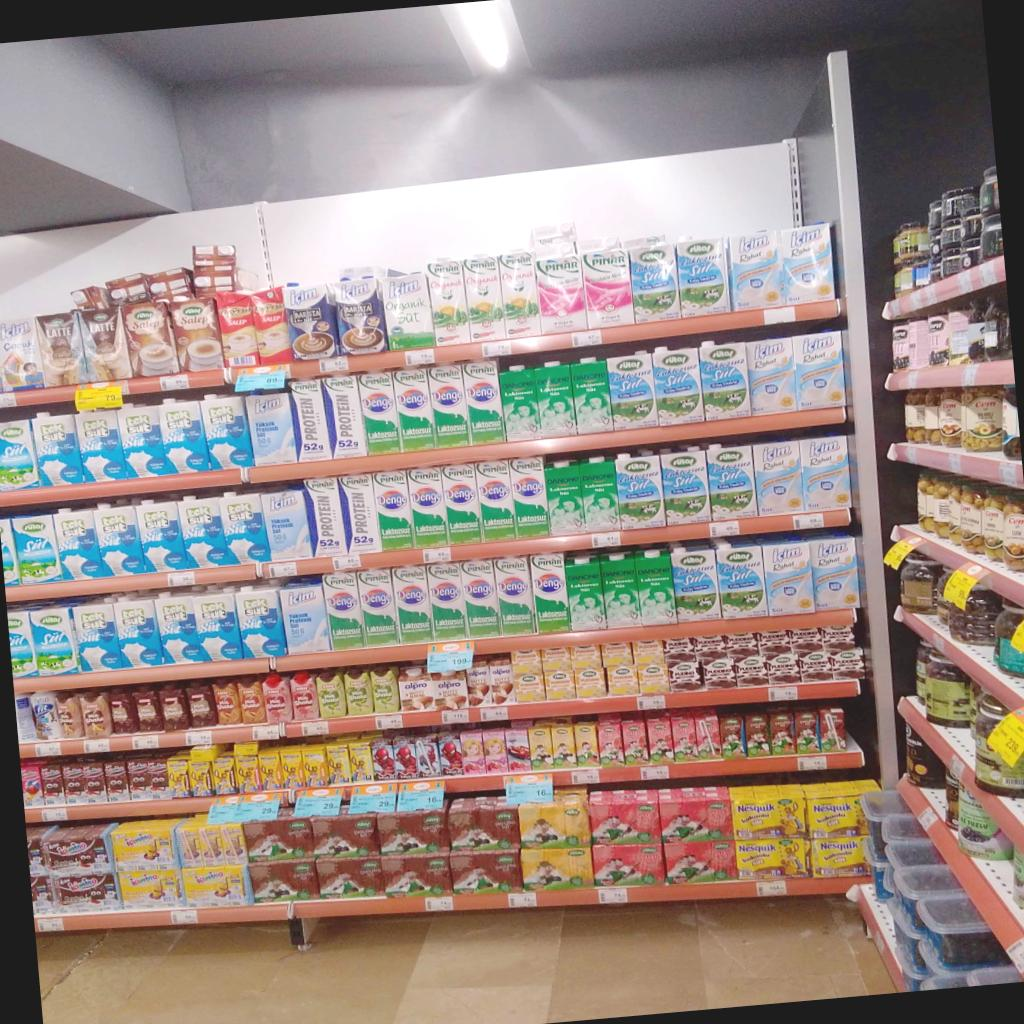price_tag: (208, 791, 286, 824), (505, 772, 554, 805), (349, 783, 397, 814), (234, 365, 289, 392), (398, 780, 445, 811), (428, 641, 474, 672), (295, 788, 343, 816), (75, 382, 123, 410), (208, 795, 244, 823), (764, 307, 796, 325), (319, 355, 348, 374), (572, 329, 602, 347), (758, 879, 787, 897), (482, 340, 512, 357), (598, 887, 628, 904), (405, 349, 435, 366), (768, 686, 799, 702), (592, 531, 621, 548), (252, 724, 281, 741), (160, 375, 189, 392), (709, 521, 739, 537), (570, 768, 600, 784), (797, 755, 826, 771), (508, 892, 537, 908), (637, 694, 666, 710), (480, 706, 509, 722), (794, 514, 823, 530), (425, 896, 453, 912), (333, 555, 361, 571), (375, 714, 403, 730), (423, 547, 451, 563), (301, 721, 329, 737), (132, 734, 160, 750), (185, 730, 213, 746), (441, 709, 470, 724), (268, 562, 297, 577), (168, 571, 195, 587), (641, 765, 669, 780), (171, 909, 197, 925), (83, 739, 111, 753), (35, 742, 61, 757), (41, 807, 67, 822), (38, 917, 64, 932), (0, 394, 17, 409)
product: (534, 244, 587, 333), (135, 499, 199, 571), (779, 223, 834, 305), (93, 503, 155, 575), (675, 237, 730, 317), (75, 410, 136, 482), (760, 535, 813, 616), (119, 301, 177, 375), (658, 787, 733, 844), (53, 508, 112, 580), (177, 495, 236, 567), (581, 247, 634, 327), (791, 330, 844, 410), (331, 277, 386, 354), (729, 784, 806, 839), (118, 405, 176, 477), (728, 231, 781, 309), (35, 310, 90, 385), (157, 397, 212, 472), (652, 347, 704, 426), (382, 272, 435, 349), (698, 342, 750, 420), (588, 788, 659, 845), (447, 796, 519, 852), (168, 298, 223, 371), (745, 337, 797, 414), (629, 242, 679, 322), (41, 823, 115, 877), (518, 792, 589, 848), (799, 435, 851, 511), (807, 535, 859, 611), (607, 352, 658, 429), (614, 451, 663, 531), (154, 592, 209, 663), (715, 543, 767, 618), (283, 283, 334, 359), (706, 445, 757, 521), (77, 307, 130, 380), (201, 394, 253, 468), (110, 819, 182, 872), (376, 803, 449, 855), (426, 257, 469, 345), (357, 371, 402, 455), (752, 440, 803, 514), (245, 391, 296, 465), (660, 451, 711, 525), (278, 583, 331, 654), (112, 597, 165, 668), (671, 547, 721, 622), (32, 413, 84, 485), (243, 807, 312, 861), (304, 477, 351, 556), (498, 250, 540, 338), (219, 491, 270, 563), (392, 367, 436, 450), (322, 375, 366, 458), (337, 473, 382, 554), (176, 815, 246, 867), (235, 586, 286, 657), (192, 590, 243, 661), (28, 605, 79, 676), (462, 254, 504, 340), (11, 513, 62, 583), (462, 360, 505, 443), (427, 364, 470, 447), (261, 489, 311, 560), (72, 601, 122, 672), (290, 379, 333, 461), (804, 783, 866, 838), (322, 571, 365, 650), (371, 470, 413, 550), (475, 460, 516, 541), (493, 556, 535, 635), (450, 848, 522, 894), (459, 560, 502, 637), (407, 467, 448, 547), (441, 464, 482, 544), (530, 553, 571, 633), (391, 565, 433, 643), (216, 291, 259, 367), (309, 811, 378, 858), (592, 841, 664, 886), (634, 548, 676, 625), (380, 852, 451, 897), (570, 358, 612, 434), (578, 456, 620, 532), (510, 457, 549, 538), (426, 562, 467, 639), (499, 365, 541, 440), (564, 555, 606, 630), (663, 841, 738, 883), (181, 864, 252, 908), (533, 362, 575, 436), (734, 837, 808, 879), (521, 847, 593, 890), (358, 568, 398, 645), (0, 318, 43, 389), (248, 859, 318, 902), (545, 460, 585, 535), (600, 552, 640, 627), (251, 288, 290, 364), (316, 855, 384, 898), (0, 419, 40, 491), (52, 871, 122, 910), (117, 869, 183, 908), (809, 836, 867, 877), (0, 518, 33, 586), (7, 610, 38, 678), (29, 690, 62, 739), (398, 667, 435, 710), (26, 825, 56, 876), (262, 673, 293, 722), (80, 691, 113, 736), (158, 684, 189, 731), (185, 682, 217, 727), (289, 672, 319, 720), (316, 669, 346, 717), (431, 671, 467, 710), (134, 687, 165, 732), (343, 668, 373, 714), (670, 711, 697, 762), (694, 711, 722, 759), (645, 716, 673, 764), (621, 717, 649, 765), (370, 667, 399, 713), (791, 708, 820, 754), (667, 655, 703, 692), (110, 689, 139, 734), (597, 719, 624, 767), (818, 706, 846, 752), (504, 727, 532, 772), (768, 709, 795, 755), (213, 680, 241, 724), (239, 678, 266, 723), (465, 662, 492, 707), (744, 712, 771, 757), (481, 729, 509, 772), (701, 655, 736, 689), (797, 649, 833, 682), (718, 714, 745, 758), (436, 731, 463, 775), (57, 693, 83, 738), (573, 721, 599, 766), (766, 652, 801, 685), (528, 724, 553, 770), (302, 744, 329, 786), (279, 745, 306, 787), (489, 659, 514, 704), (371, 735, 396, 780), (734, 654, 768, 687), (415, 734, 441, 777), (258, 747, 284, 790), (211, 753, 238, 794), (20, 761, 44, 807), (166, 753, 191, 797), (103, 759, 129, 801), (60, 762, 86, 804), (829, 647, 863, 679), (348, 739, 373, 782), (326, 741, 351, 784), (40, 760, 64, 804), (30, 874, 56, 914), (551, 724, 575, 767), (460, 731, 484, 774), (126, 757, 150, 799), (544, 669, 576, 700), (83, 760, 107, 801), (538, 646, 574, 673), (234, 756, 261, 792), (574, 667, 605, 698), (513, 673, 545, 703), (606, 666, 638, 696), (188, 761, 215, 796), (14, 696, 35, 741), (148, 757, 171, 797), (568, 643, 602, 670), (597, 642, 633, 667), (638, 664, 668, 694), (631, 639, 664, 665), (790, 628, 823, 654), (822, 626, 855, 652), (511, 649, 542, 675), (757, 631, 789, 656), (726, 631, 758, 655), (394, 744, 416, 778), (664, 637, 693, 661), (696, 635, 725, 657), (92, 896, 94, 897), (754, 732, 755, 733)
